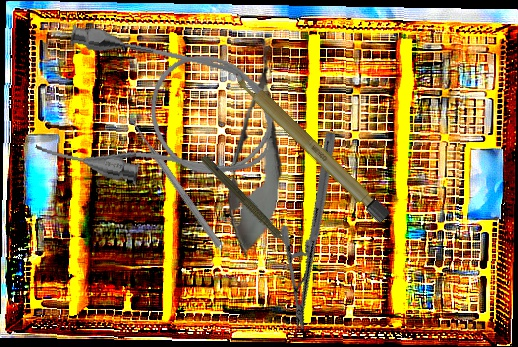Cannula: (32, 20, 284, 208)
Handpiece: (196, 153, 299, 258)
Micro Scissor: (219, 34, 295, 261)
Needle Holder: (235, 129, 395, 333)
Pusher: (126, 115, 224, 249)
Scalpel Handle: (229, 66, 393, 225)
